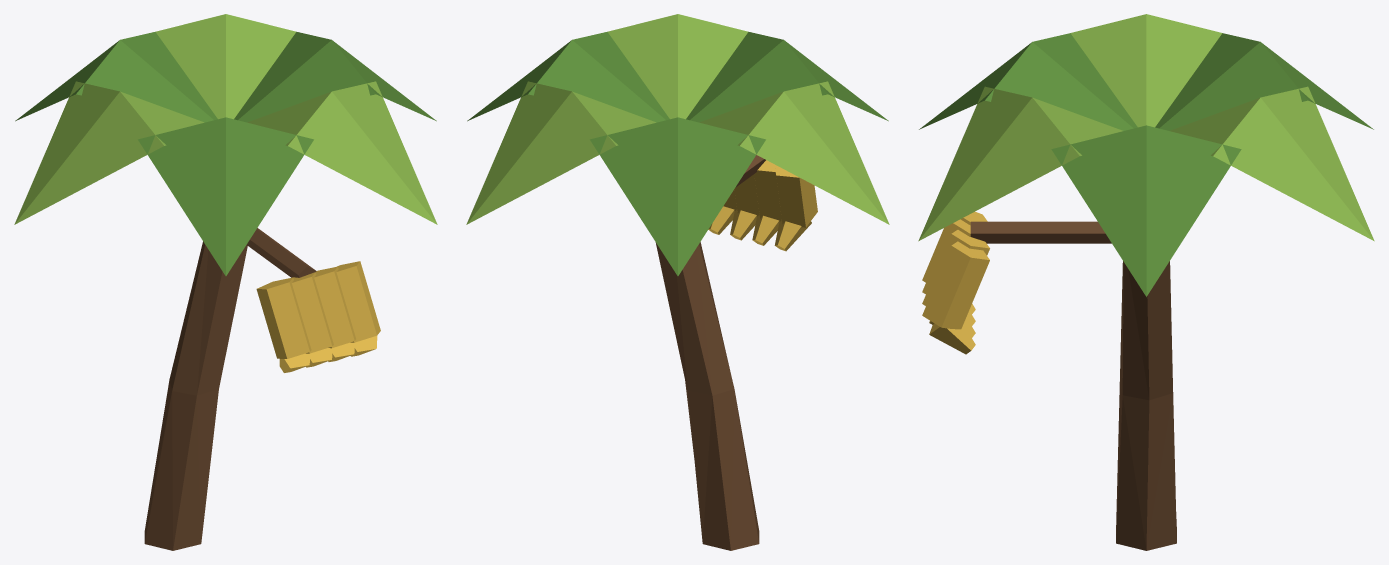
File: res_bananas.glb
The picture shows the model from 3 angles, left to right: view 1: azimuth 30°, elevation 25°; view 2: azimuth 150°, elevation 25°; view 3: azimuth 270°, elevation 25°; orthographic projection. The views are drawn at different scales.
Parts seen in each view (by area): view 1: res_bananas; view 2: res_bananas; view 3: res_bananas.
Part boxes in pixels (x1=…): res_bananas: x1=14, y1=14, x2=437, y2=550; res_bananas: x1=466, y1=14, x2=889, y2=550; res_bananas: x1=918, y1=14, x2=1374, y2=550.
Bounding box in the file's own units: 0.36 × 0.3725 × 0.3118.
